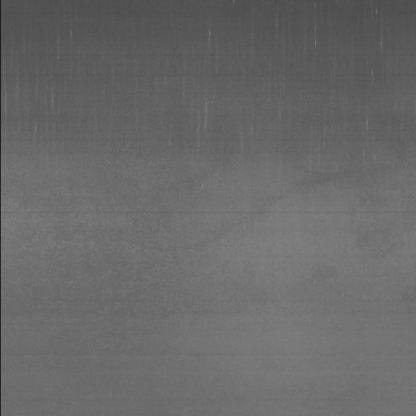waist_folding: (33, 20, 370, 168)
